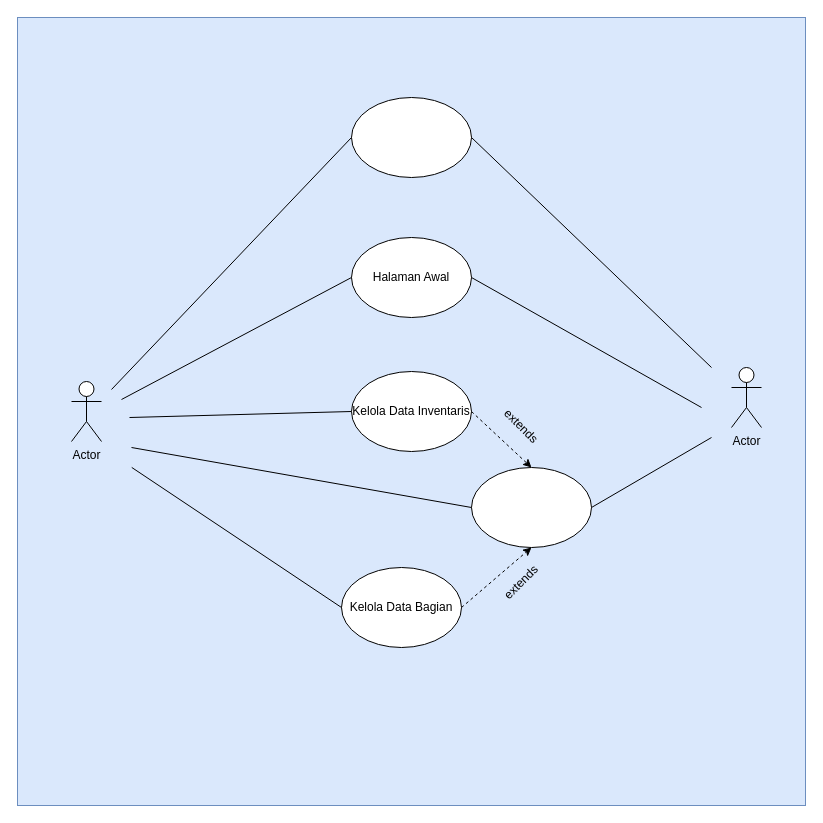
This 823x823 diagram has some shape labels left out. Each missing label, with the centre of its shape:
"Login" belongs at (411,137).
"Pencarian Data" belongs at (531,507).
